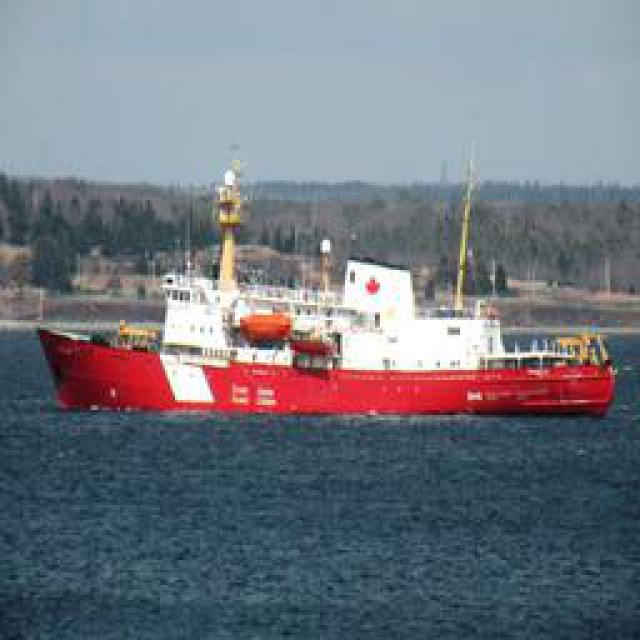Ship: (21, 264, 624, 419)
